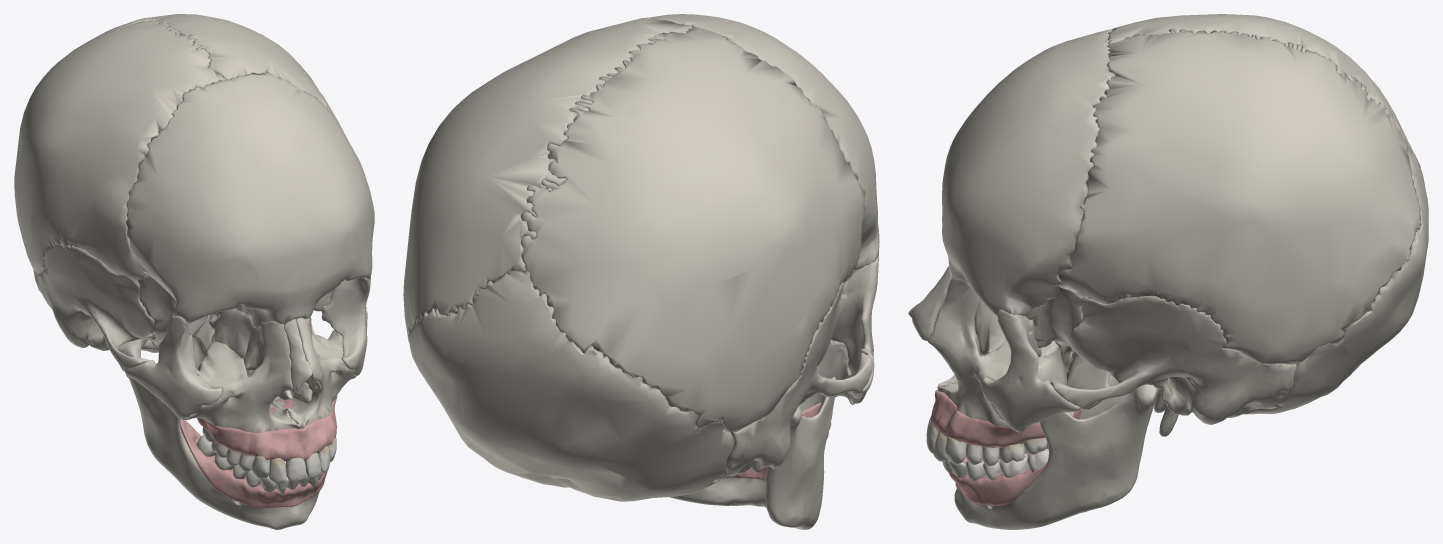
File: head.glb
3 renders of one model, left to right at view 1: azimuth 30°, elevation 25°; view 2: azimuth 150°, elevation 25°; view 3: azimuth 270°, elevation 25°, orthographic. The views are drawn at different scales.
Visible parts, largest first — view 1: bone_frontal, bone_parietal_r, bone_temporal_r, bone_maxilla_r, bone_mandible, bone_parietal_l, bone_zygomatic_r, bone_maxilla_l, bone_zygomatic_l, bone_sphenoid, bone_ethmoid, bone_nasal_r (+8 smaller); view 2: bone_parietal_r, bone_occipital, bone_parietal_l, bone_frontal, bone_mandible, bone_temporal_r, bone_zygomatic_r, bone_maxilla_r; view 3: bone_parietal_l, bone_frontal, bone_temporal_l, bone_mandible, bone_occipital, bone_maxilla_l, bone_parietal_r, bone_zygomatic_l, bone_sphenoid, bone_nasal_l, bone_lacrimal_l, gum_b19 (+1 smaller).
Boxes of the visible parts, x1,y1,x2,y2 form: bone_frontal: (126,72,374,328); bone_parietal_r: (14,18,225,281); bone_temporal_r: (33,243,155,378); bone_maxilla_r: (182,321,300,432); bone_mandible: (118,325,319,529); bone_parietal_l: (139,14,348,140); bone_zygomatic_r: (125,316,222,418); bone_maxilla_l: (271,316,356,428); bone_zygomatic_l: (321,276,370,375); bone_sphenoid: (137,273,334,369); bone_ethmoid: (209,308,260,358); bone_nasal_r: (284,319,312,390); bone_parietal_r: (520,27,865,432); bone_occipital: (408,271,734,501); bone_parietal_l: (403,17,692,343); bone_frontal: (650,14,879,270); bone_mandible: (668,377,835,529); bone_temporal_r: (716,281,872,479); bone_zygomatic_r: (831,254,878,403); bone_maxilla_r: (798,339,854,412); bone_parietal_l: (1059,29,1421,364); bone_frontal: (942,29,1115,315); bone_temporal_l: (1050,295,1296,436); bone_mandible: (954,375,1159,529); bone_occipital: (1242,148,1428,414); bone_maxilla_l: (928,277,1066,435); bone_parietal_r: (1107,14,1420,169); bone_zygomatic_l: (981,310,1080,432); bone_sphenoid: (1023,287,1110,410); bone_nasal_l: (912,266,952,341); bone_lacrimal_l: (974,299,1006,353); gum_b19: (998,470,1027,505).
Size of the model in its own units: 144 by 203 by 197.
